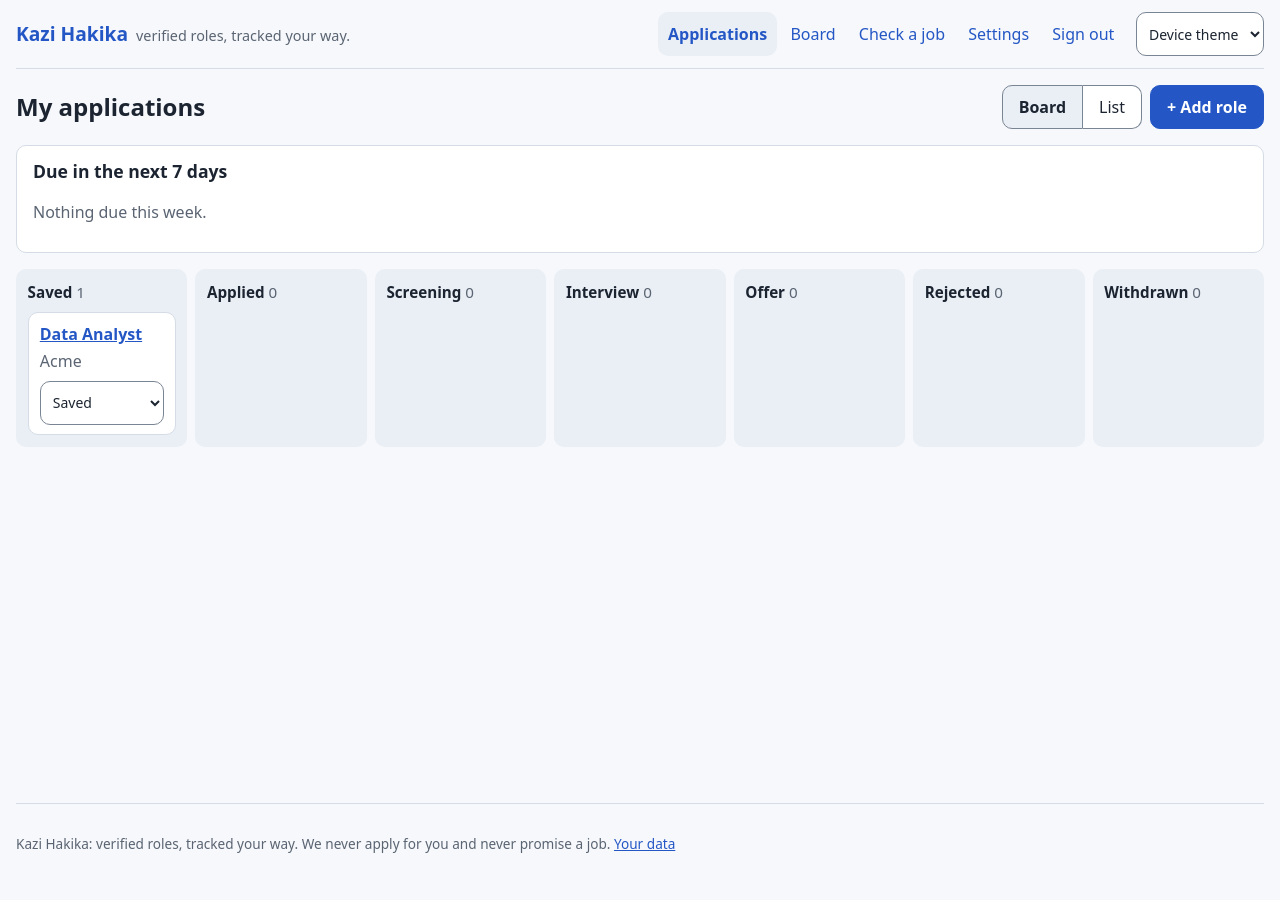
Test: tracker › puts the card back if the move fails
Select "Offer" in the dropdown named "Move Data Analyst to" below "Data Analyst" at (102, 403), box [40, 381, 164, 425]
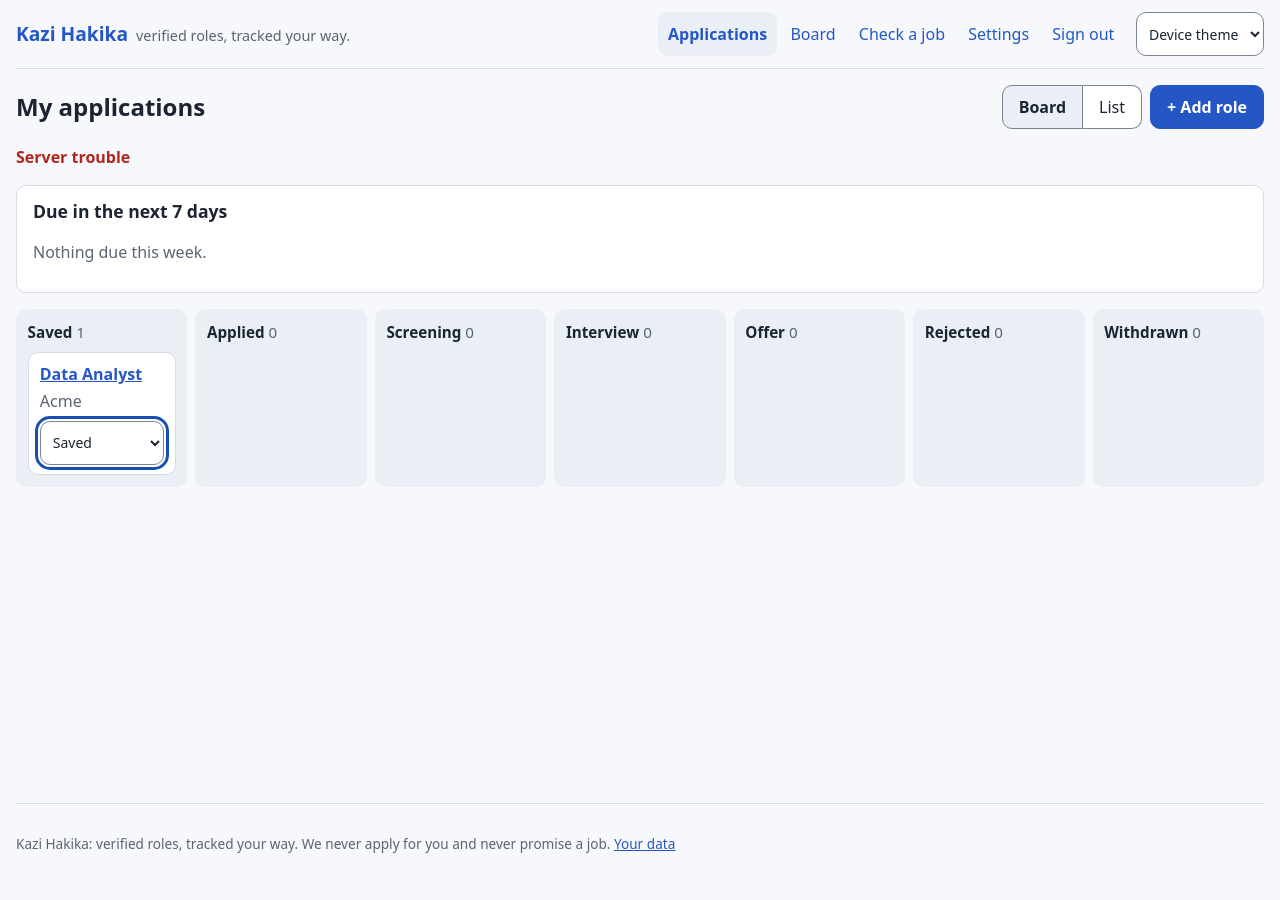
Check: the link "Data Analyst" is shown, box [40, 363, 142, 385]
Check: the message reads "Server trouble", box [16, 146, 130, 168]
